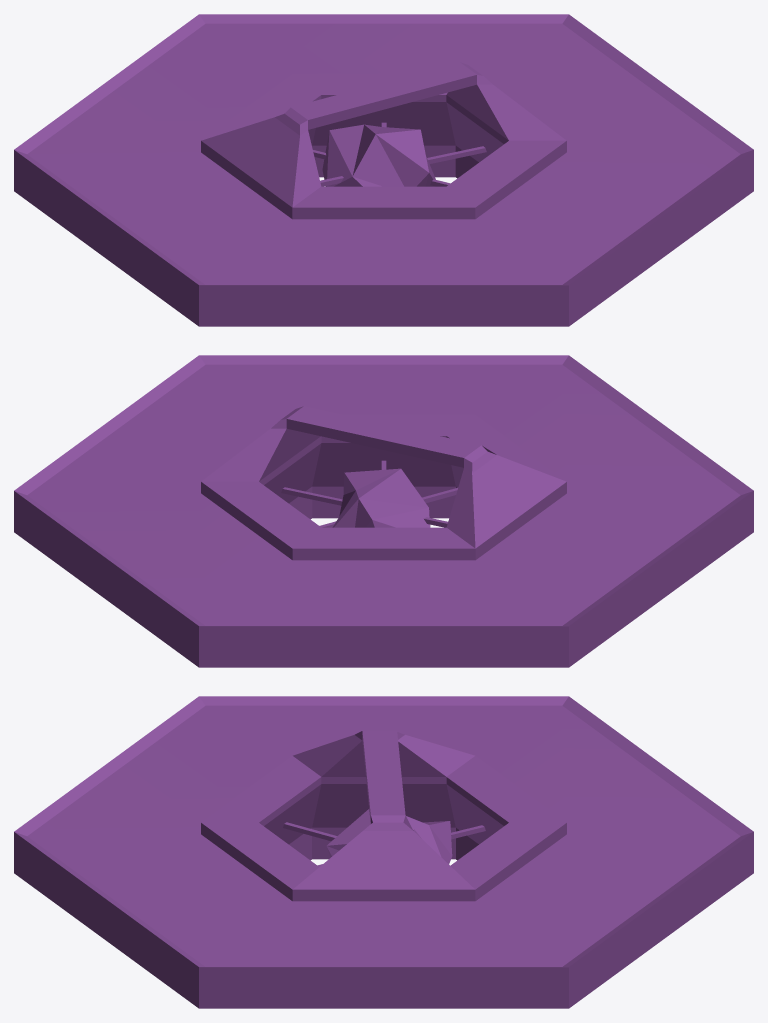
File: item_hoverpad_galaxy.glb
3 views of the same model, one above another, from view 1: azimuth 30°, elevation 25°; view 2: azimuth 150°, elevation 25°; view 3: azimuth 270°, elevation 25° (orthographic).
Parts seen in each view (by area): view 1: Hoverpad_submesh_0, Hoverpad_submesh_1, Hoverpad_submesh_2, UraniumBlob_Med, Cube.001; view 2: Hoverpad_submesh_0, Hoverpad_submesh_1, Hoverpad_submesh_2, UraniumBlob_Med, Cube.001; view 3: Hoverpad_submesh_0, Hoverpad_submesh_1, Hoverpad_submesh_2, UraniumBlob_Med.
Part boxes in pixels (box(x1,y1,x2,y2)): Hoverpad_submesh_0: box(27, 23, 740, 284); Hoverpad_submesh_1: box(14, 14, 753, 326); Hoverpad_submesh_2: box(201, 62, 566, 219); UraniumBlob_Med: box(322, 124, 435, 186); Cube.001: box(320, 146, 486, 186); Hoverpad_submesh_0: box(27, 364, 740, 625); Hoverpad_submesh_1: box(14, 355, 753, 667); Hoverpad_submesh_2: box(201, 406, 566, 560); UraniumBlob_Med: box(332, 468, 430, 527); Cube.001: box(281, 487, 447, 527); Hoverpad_submesh_0: box(27, 705, 740, 966); Hoverpad_submesh_1: box(14, 696, 753, 1008); Hoverpad_submesh_2: box(201, 730, 566, 901); UraniumBlob_Med: box(326, 809, 452, 863).
Bounding box in the file's own units: 0.5388 × 0.1431 × 0.6222.
